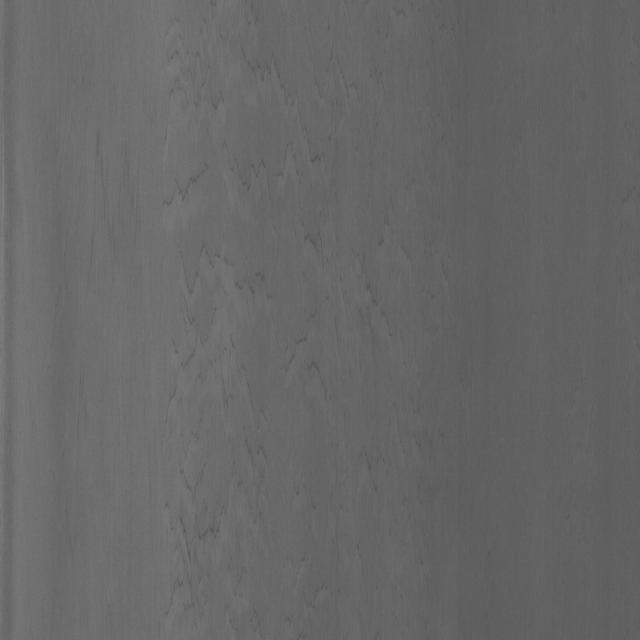inclusion: (140, 39, 372, 589)
